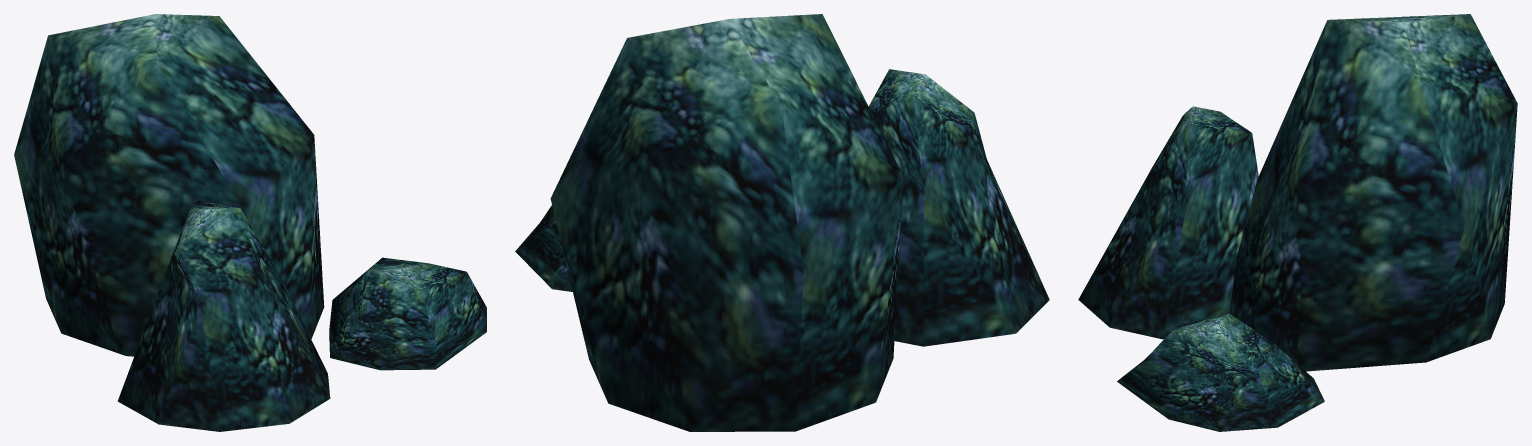
The model's file is rocks03.obj.
3 views of the same model, side by side, from view 1: azimuth 30°, elevation 25°; view 2: azimuth 150°, elevation 25°; view 3: azimuth 270°, elevation 25° (orthographic). The views are drawn at different scales.
Parts seen in each view (by area): view 1: North_Rocks4; view 2: North_Rocks4; view 3: North_Rocks4.
Part boxes in pixels (x1,y1,x2,y2): North_Rocks4: (14,14,486,431); North_Rocks4: (515,14,1049,431); North_Rocks4: (1078,14,1517,431).
Bounding box in the file's own units: 5.33 × 3.91 × 5.36.
1 material, 1 textured.
